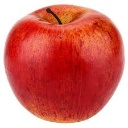apple: (4, 5, 125, 123)
